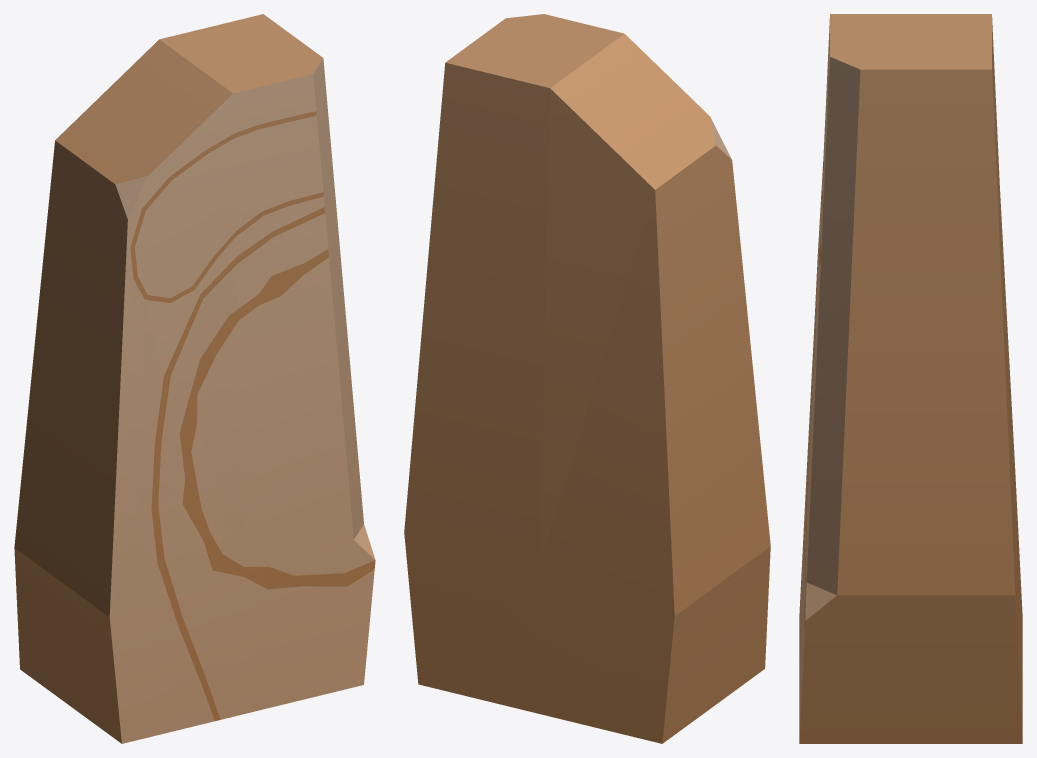
The model's file is ancient-stone-13.glb.
The picture shows the model from 3 angles, left to right: view 1: azimuth 30°, elevation 25°; view 2: azimuth 150°, elevation 25°; view 3: azimuth 270°, elevation 25°; orthographic projection. The views are drawn at different scales.
Parts seen in each view (by area): view 1: ancient stone 13; view 2: ancient stone 13; view 3: ancient stone 13.
Boxes of the visible parts, x1,y1,x2,y2 form: ancient stone 13: [14, 14, 375, 743]; ancient stone 13: [404, 14, 770, 743]; ancient stone 13: [799, 14, 1022, 743].
Size of the model in its own units: 5.48 by 11.89 by 3.6.
1 material, 1 textured.
